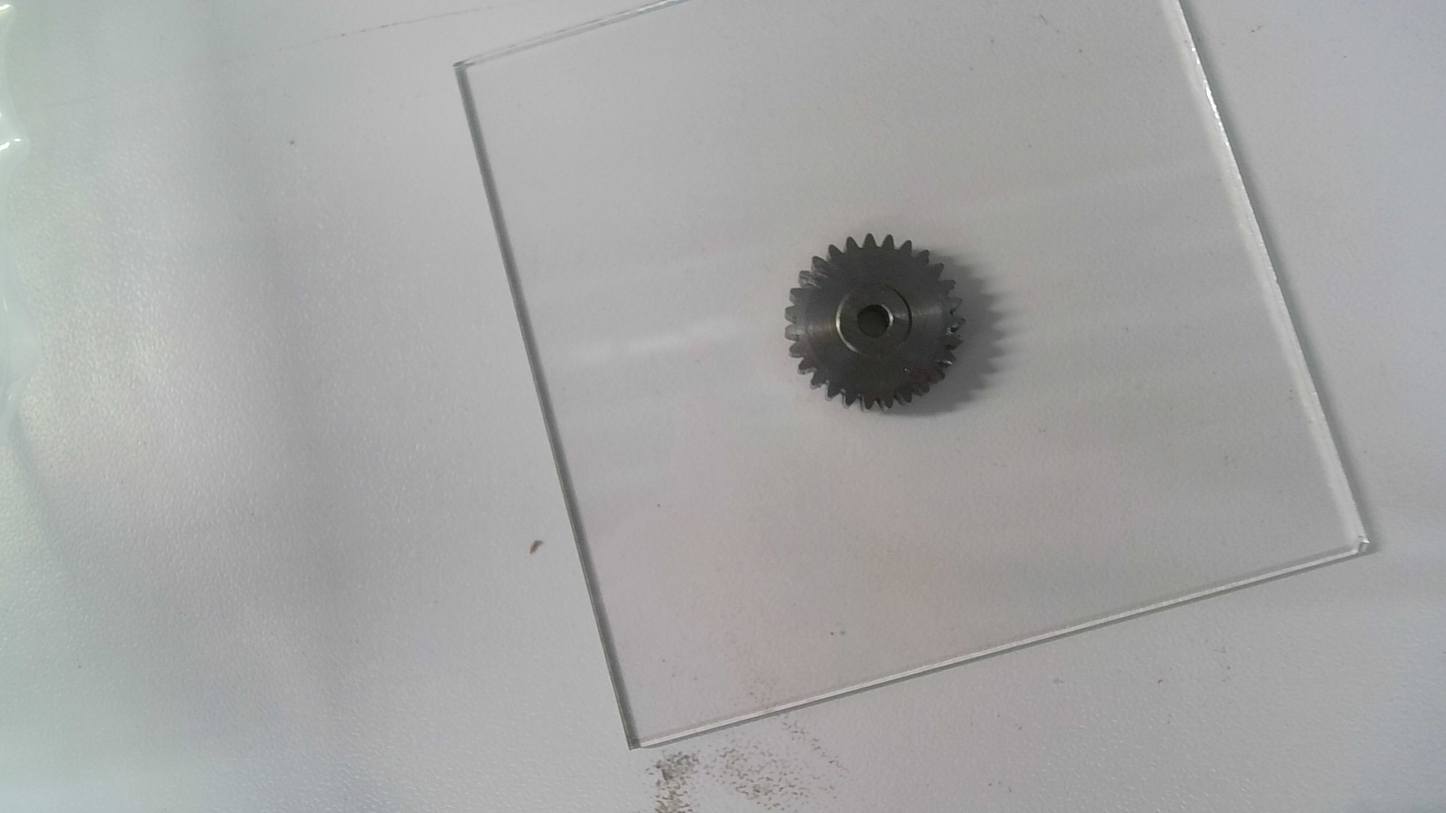gear: (780, 230, 970, 419)
